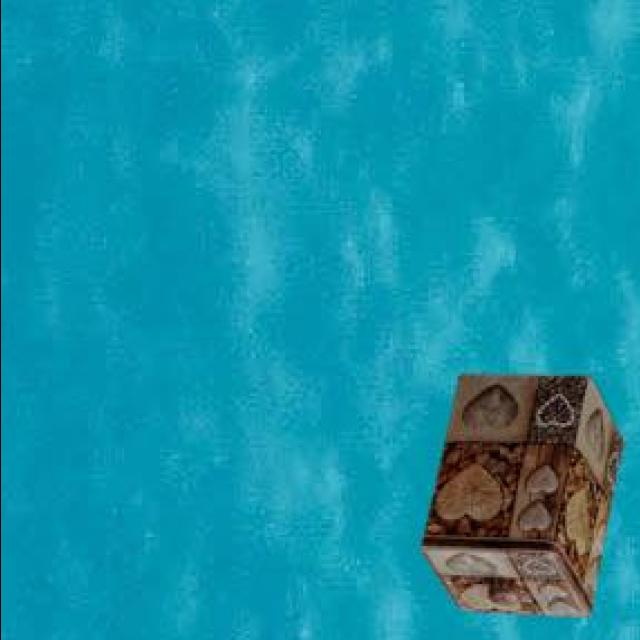logam: (417, 377, 619, 621)
